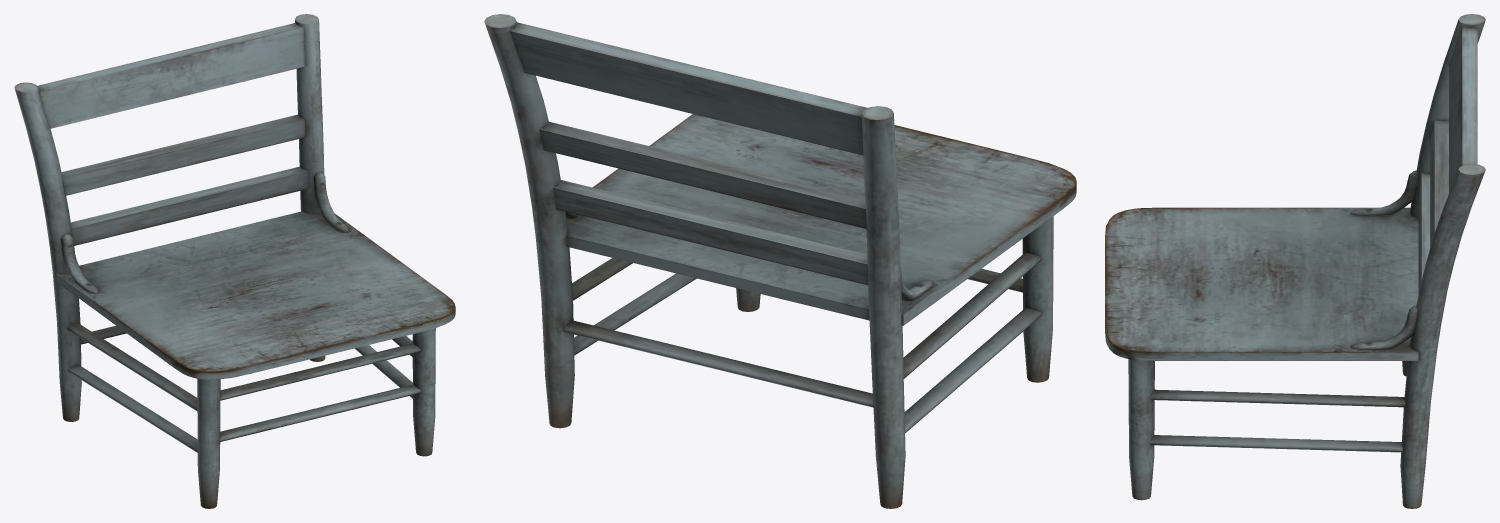
Rendered from ph-painted-wooden-chair-02.glb.
3 renders of one model, left to right at view 1: azimuth 30°, elevation 25°; view 2: azimuth 150°, elevation 25°; view 3: azimuth 270°, elevation 25°, orthographic. The views are drawn at different scales.
Visible parts, largest first — view 1: painted_wooden_chair_02; view 2: painted_wooden_chair_02; view 3: painted_wooden_chair_02.
Boxes of the visible parts, x1,y1,x2,y2 form: painted_wooden_chair_02: (14, 14, 455, 508); painted_wooden_chair_02: (484, 14, 1076, 508); painted_wooden_chair_02: (1105, 14, 1485, 508).
Size of the model in its own units: 1 by 1 by 1.
Materials: 1 (1 with a texture image).
